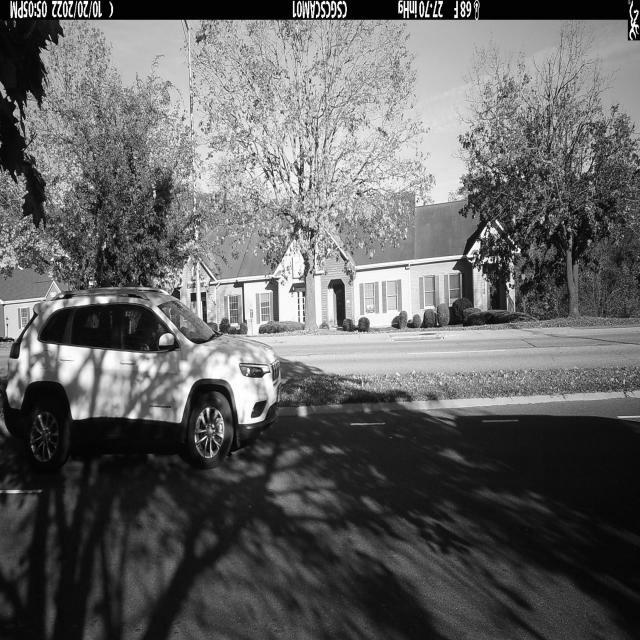SUV: (2, 288, 281, 471)
